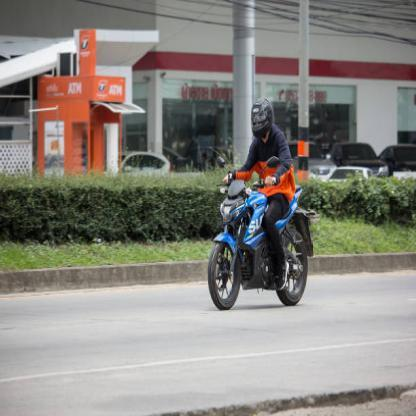Motorcycle: (211, 161, 314, 308)
